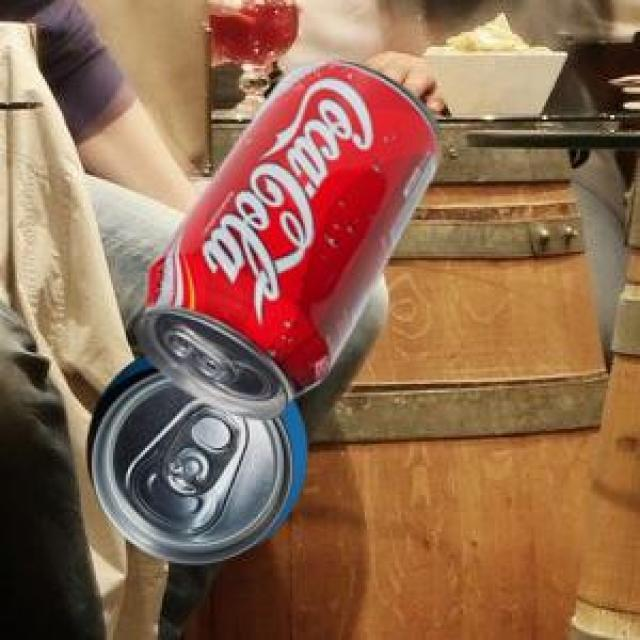Can: (133, 59, 436, 417), (84, 351, 302, 560)
